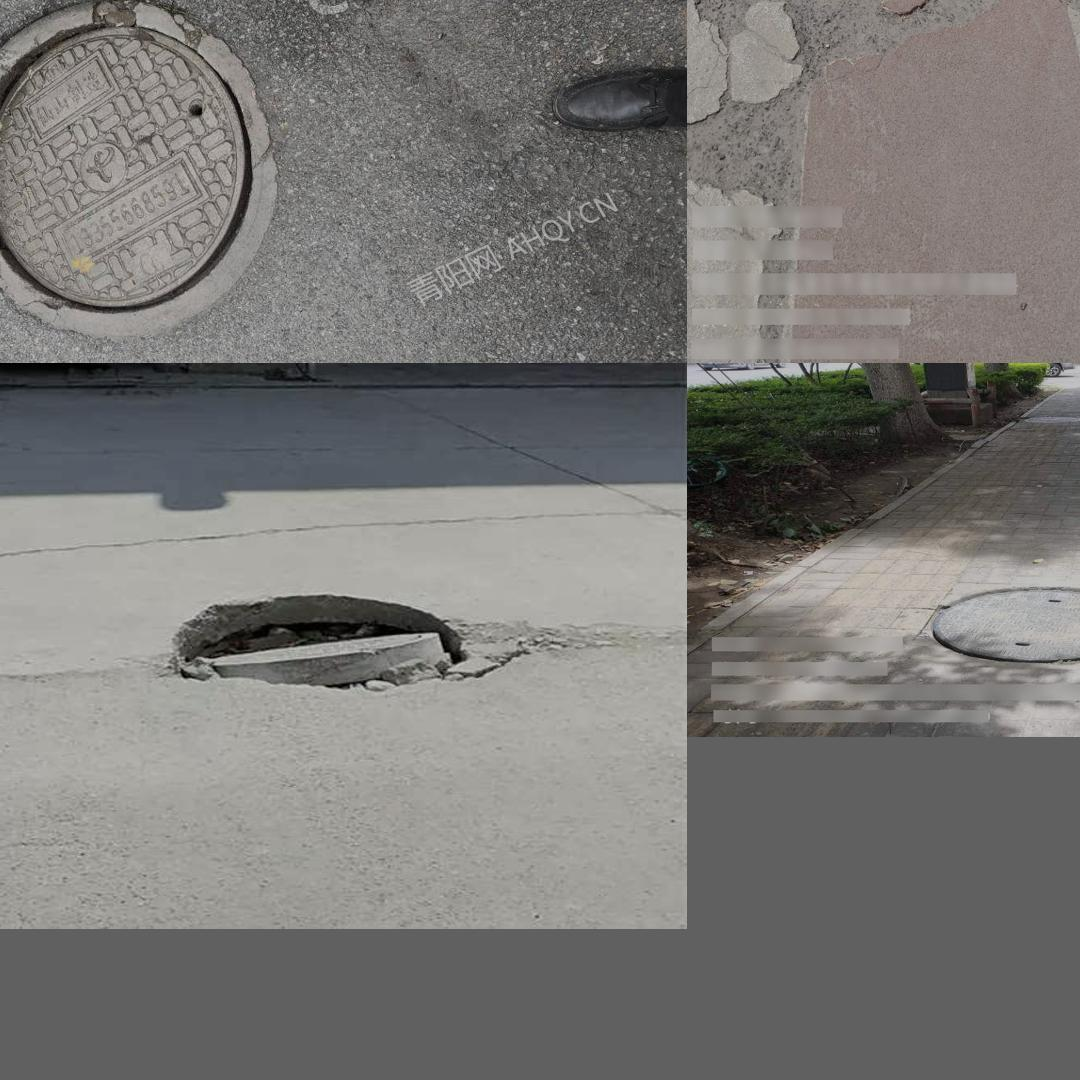circle: (0, 0, 304, 347), (138, 580, 569, 720), (926, 586, 1080, 665)
